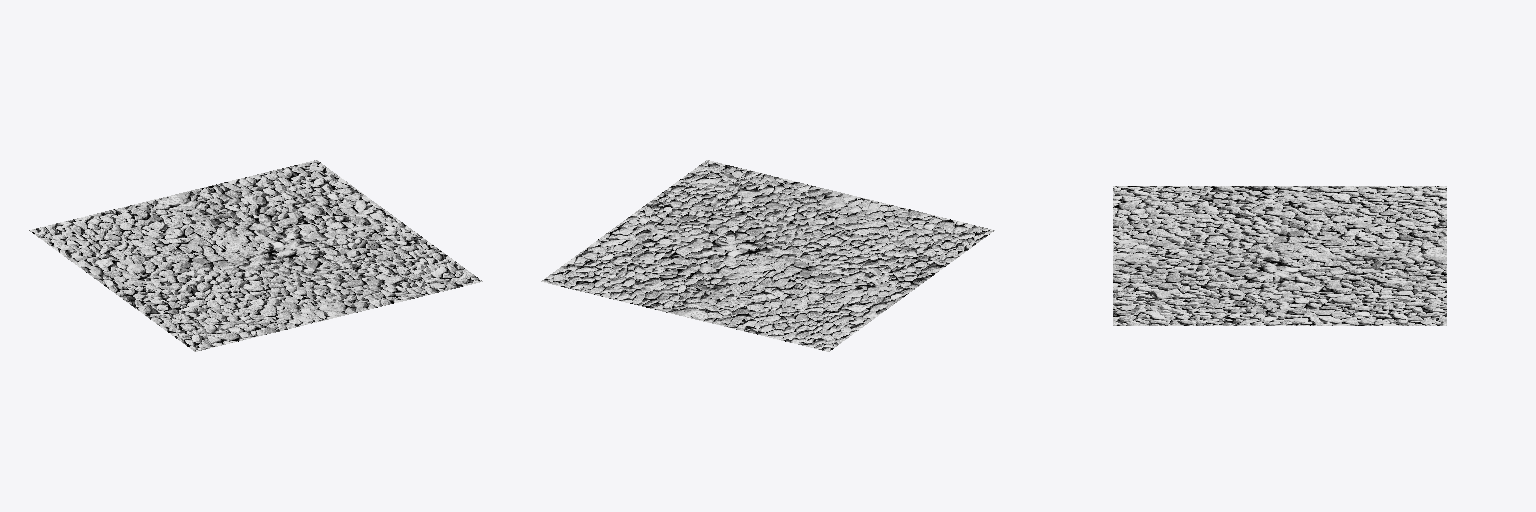
3 views of the same model, side by side, from view 1: azimuth 30°, elevation 25°; view 2: azimuth 150°, elevation 25°; view 3: azimuth 270°, elevation 25° (orthographic).
Visible parts, largest first — view 1: parkingLot_Plane.009; view 2: parkingLot_Plane.009; view 3: parkingLot_Plane.009.
Boxes of the visible parts, <box> form: parkingLot_Plane.009: <box>29,160,482,351</box>; parkingLot_Plane.009: <box>541,160,994,351</box>; parkingLot_Plane.009: <box>1113,186,1446,325</box>.
Size of the model in its own units: 2 by 0 by 2.
Materials: 1 (1 with a texture image).